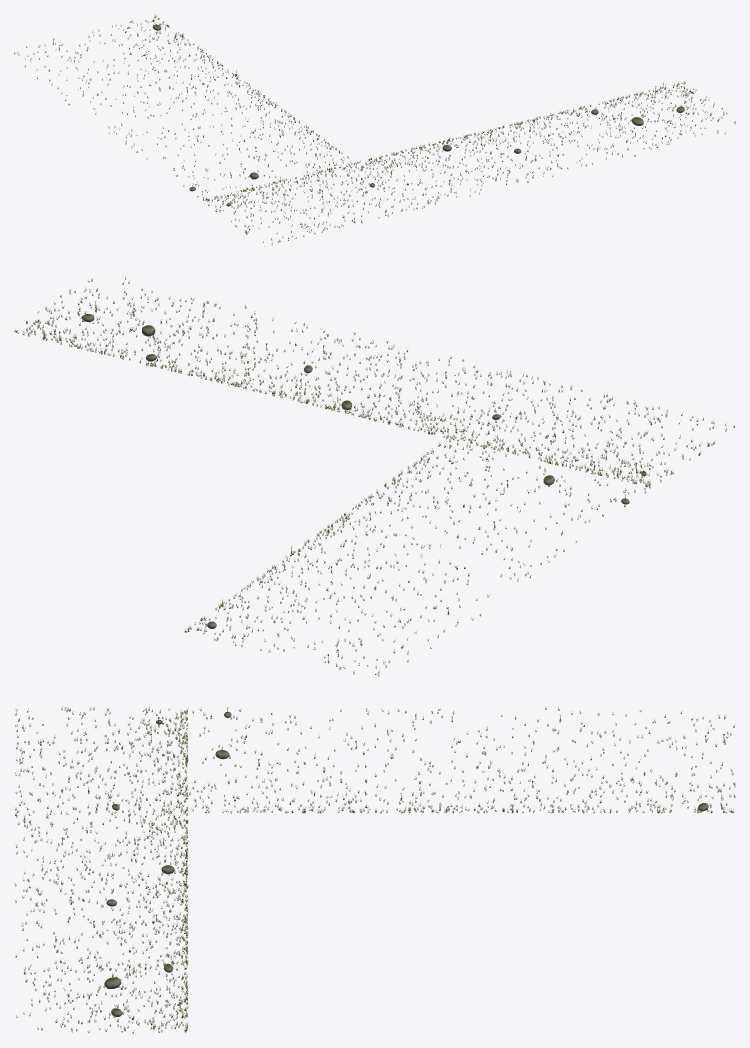
The model's file is golden-meadow-grass.glb.
The picture shows the model from 3 angles, top to bottom: view 1: azimuth 30°, elevation 25°; view 2: azimuth 150°, elevation 25°; view 3: azimuth 270°, elevation 25°; orthographic projection. The views are drawn at different scales.
Parts seen in each view (by area): view 1: golden-meadow-grass; view 2: golden-meadow-grass; view 3: golden-meadow-grass.
Part boxes in pixels (x1,y1,x2,y2): golden-meadow-grass: [52, 24, 693, 206]; golden-meadow-grass: [43, 301, 646, 661]; golden-meadow-grass: [23, 707, 724, 1017].
Bounding box in the file's own units: 58.2 × 1.22 × 54.69.
